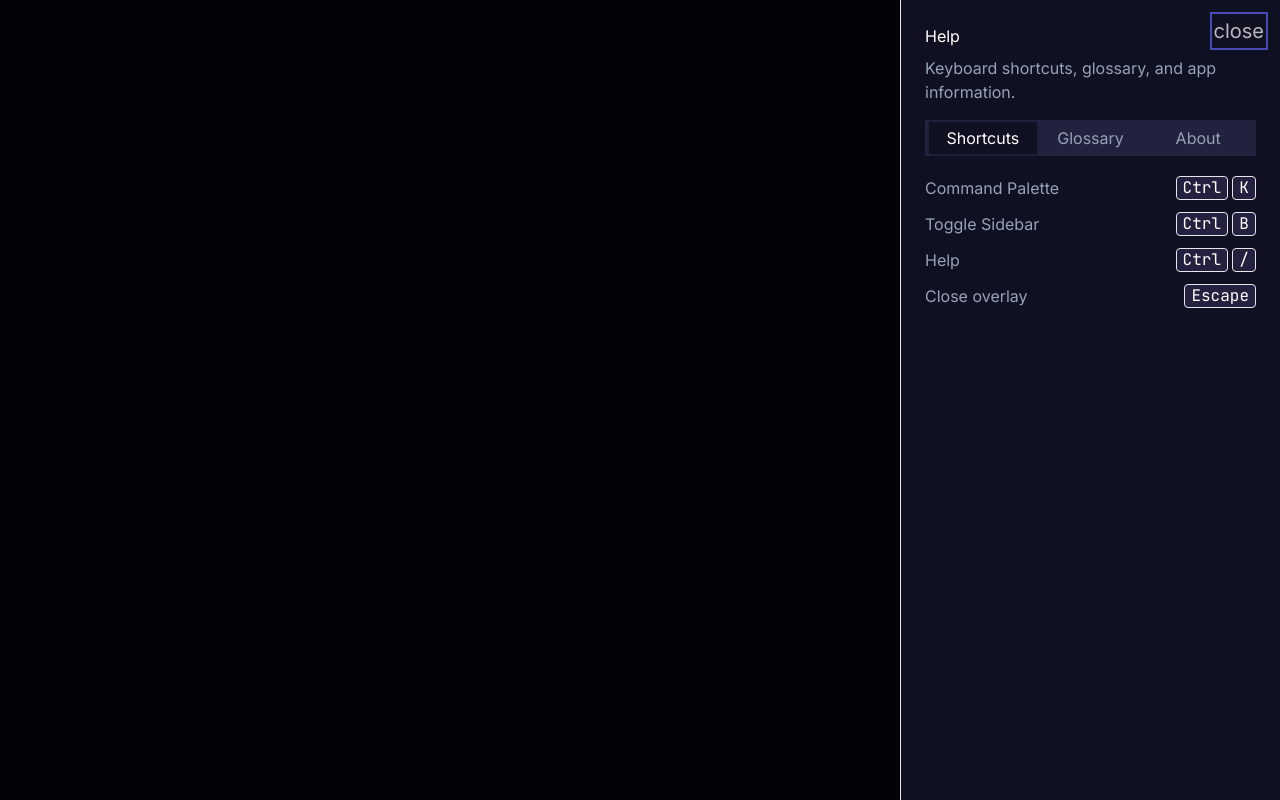
Test: HelpDrawer › shows all glossary terms
Click the tab "Glossary" at coordinates (1091, 138), box x1=1037 y1=122 x2=1144 y2=154
(page scrolled)
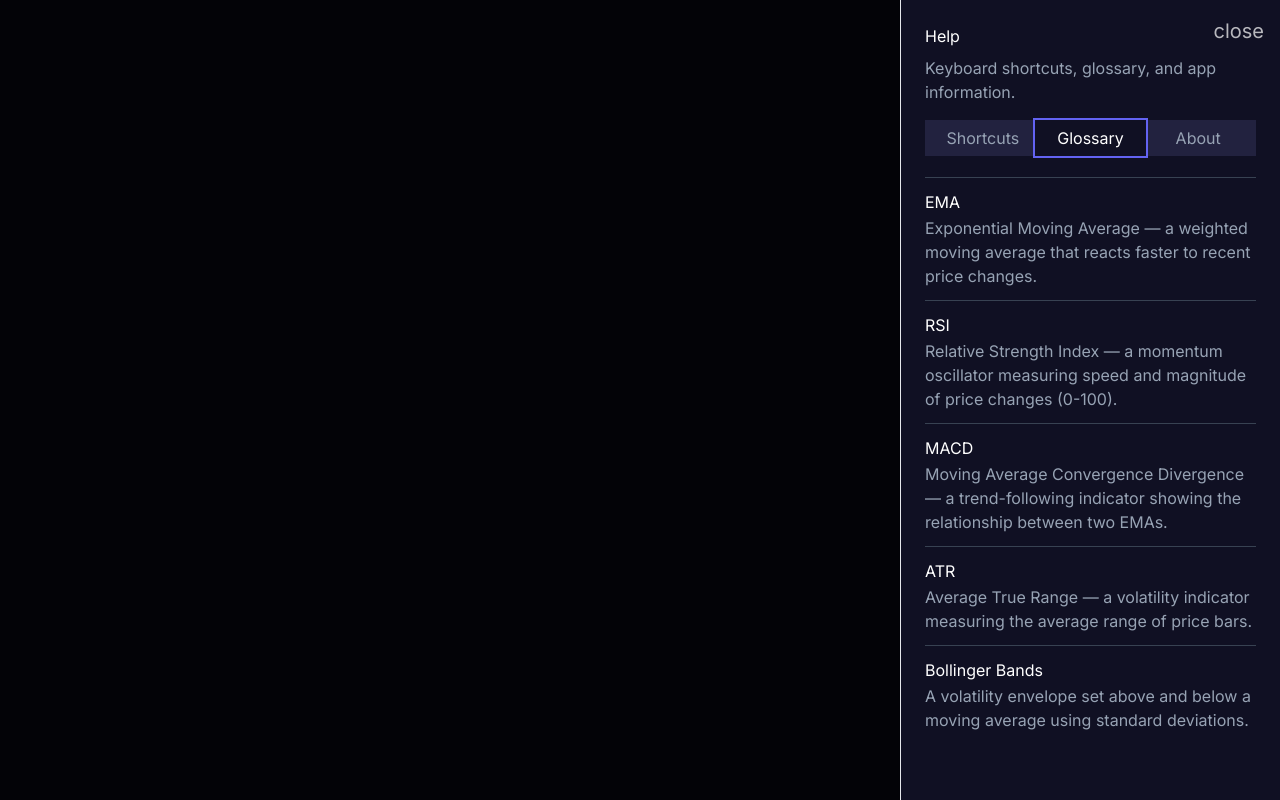
Expected: the text "EMA" is shown, x1=925 y1=192 x2=960 y2=212
Expected: the text "RSI" is shown, x1=925 y1=315 x2=950 y2=335
Expected: the text "MACD" is shown, x1=925 y1=438 x2=973 y2=458
